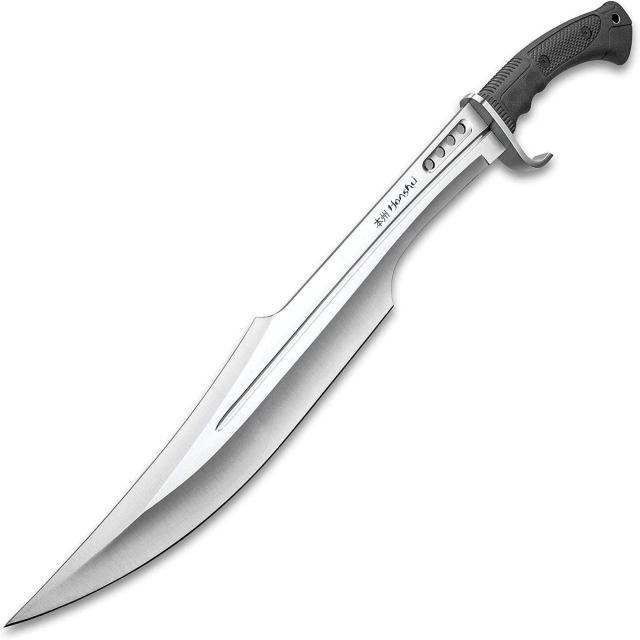weapon: (0, 4, 632, 639)
